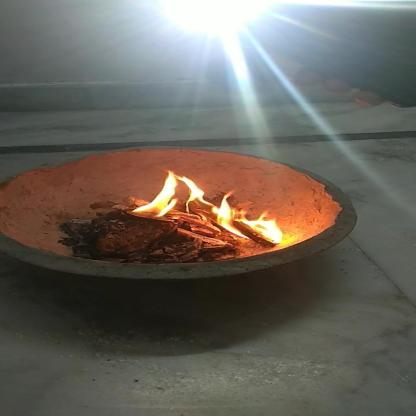fire: (130, 170, 214, 220), (214, 190, 288, 244)
